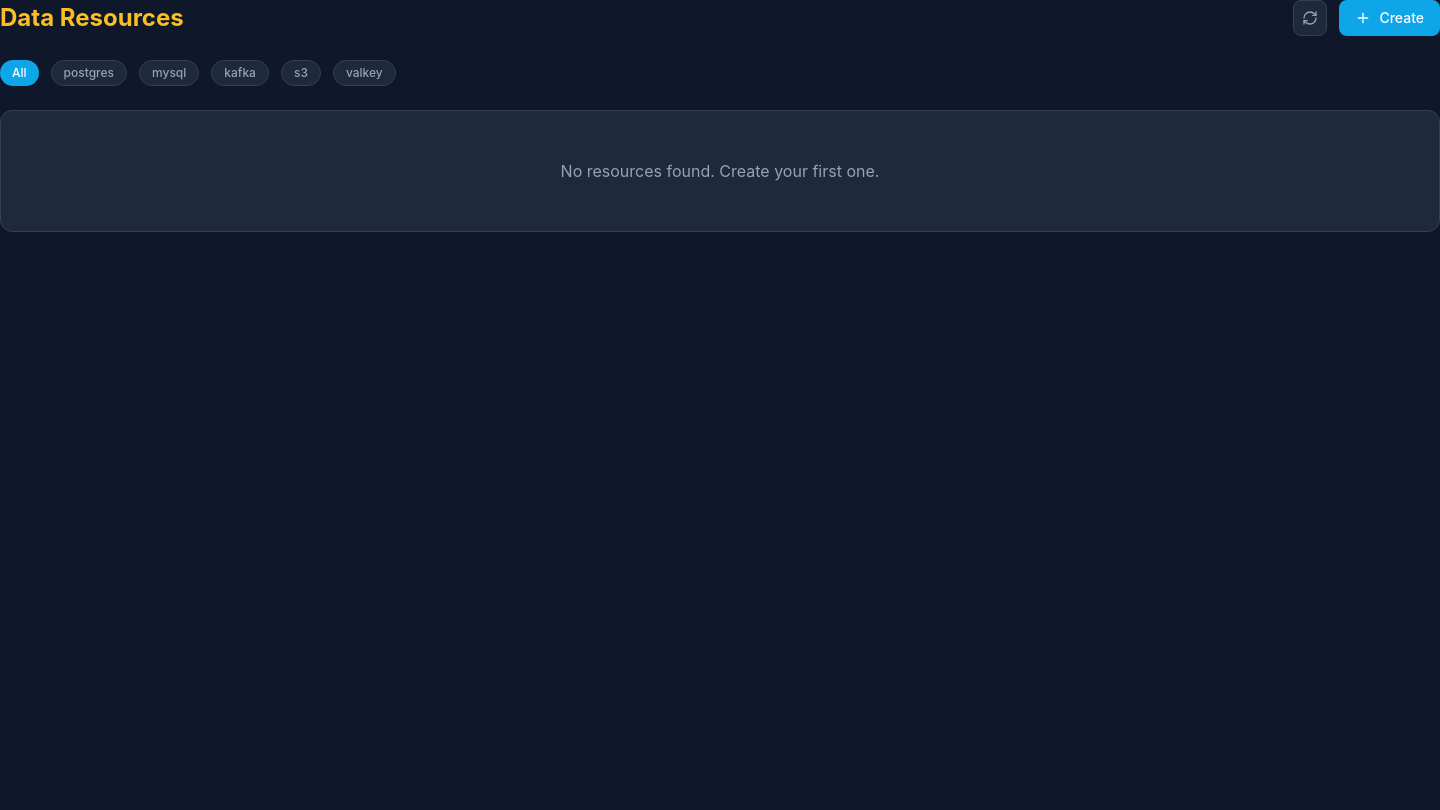
Resources › opens create modal on button click
The image size is (1440, 810).
Expected: the text "No resources found. Create your first one." is shown, x1=561 y1=161 x2=879 y2=181
Click the button "Create": (1390, 18) x1=1339 y1=0 x2=1439 y2=36
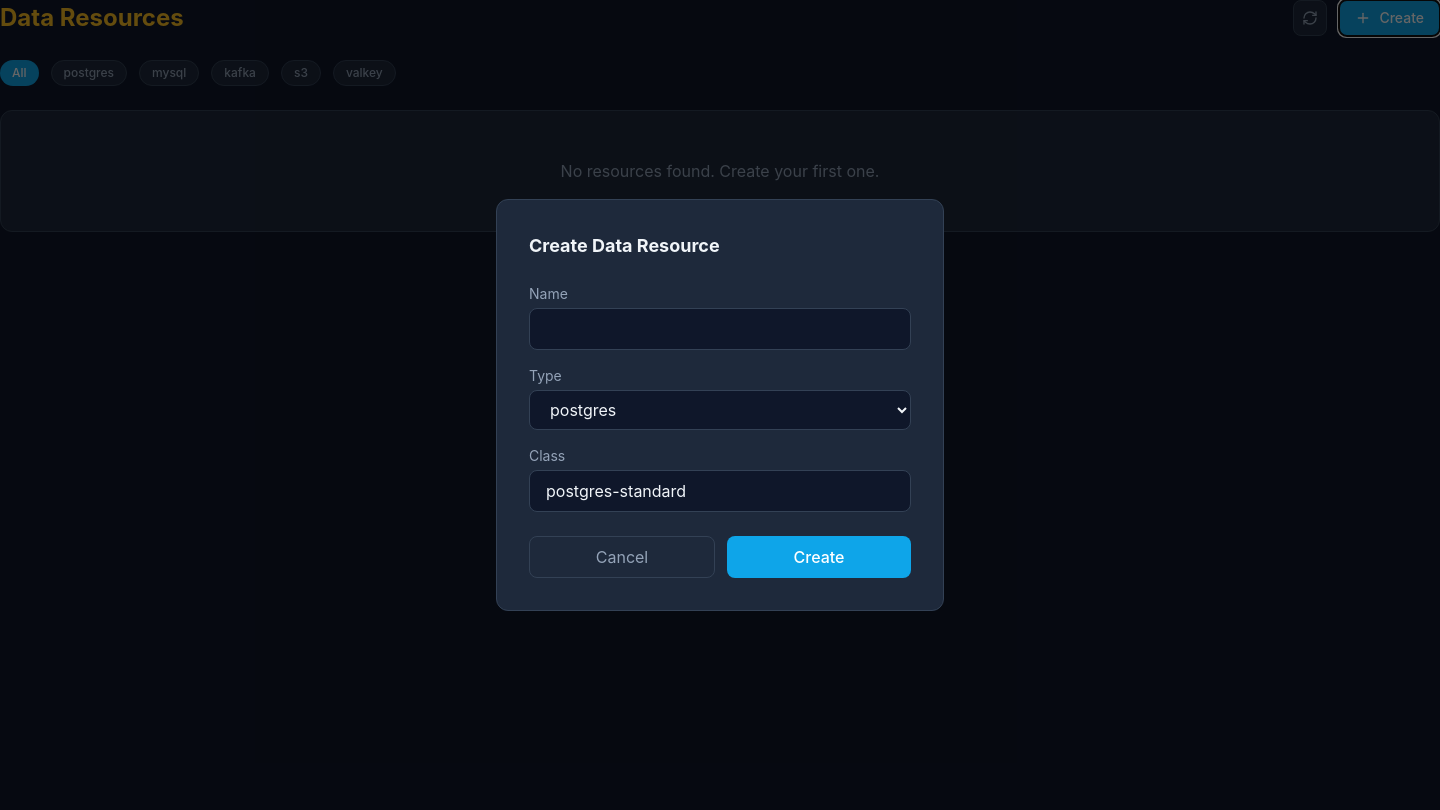
Now the heading "Create Data Resource" is shown, box x1=529 y1=235 x2=720 y2=256
